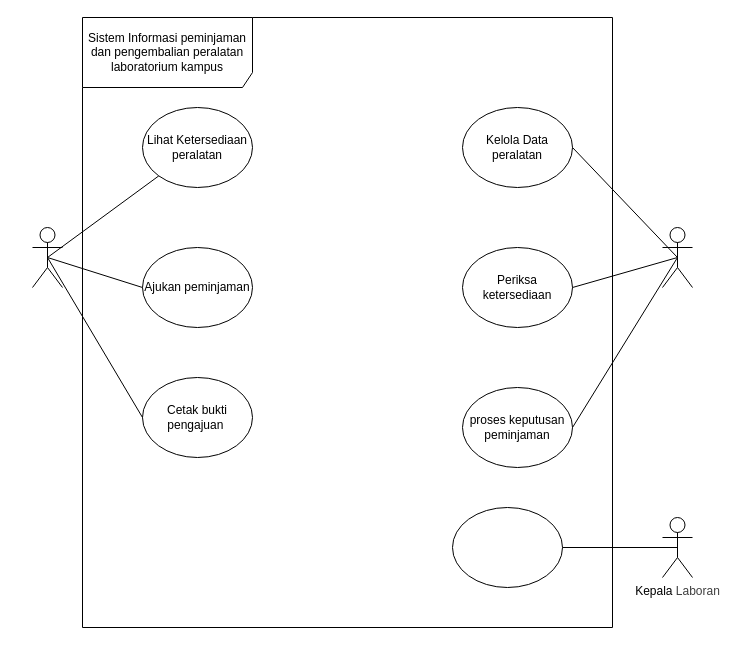
This 740x645 diagram has some shape labels left out. Each missing label, with the centre of its shape:
Lihat laporan peminjaman: the point at 507,547
Mahasiswa: the point at 47,257
Petugas Laboran: the point at 677,257
